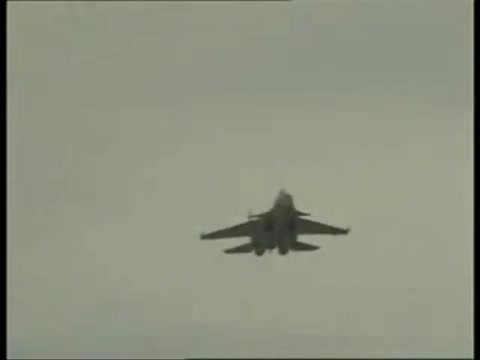aeroplane: (200, 190, 352, 256)
